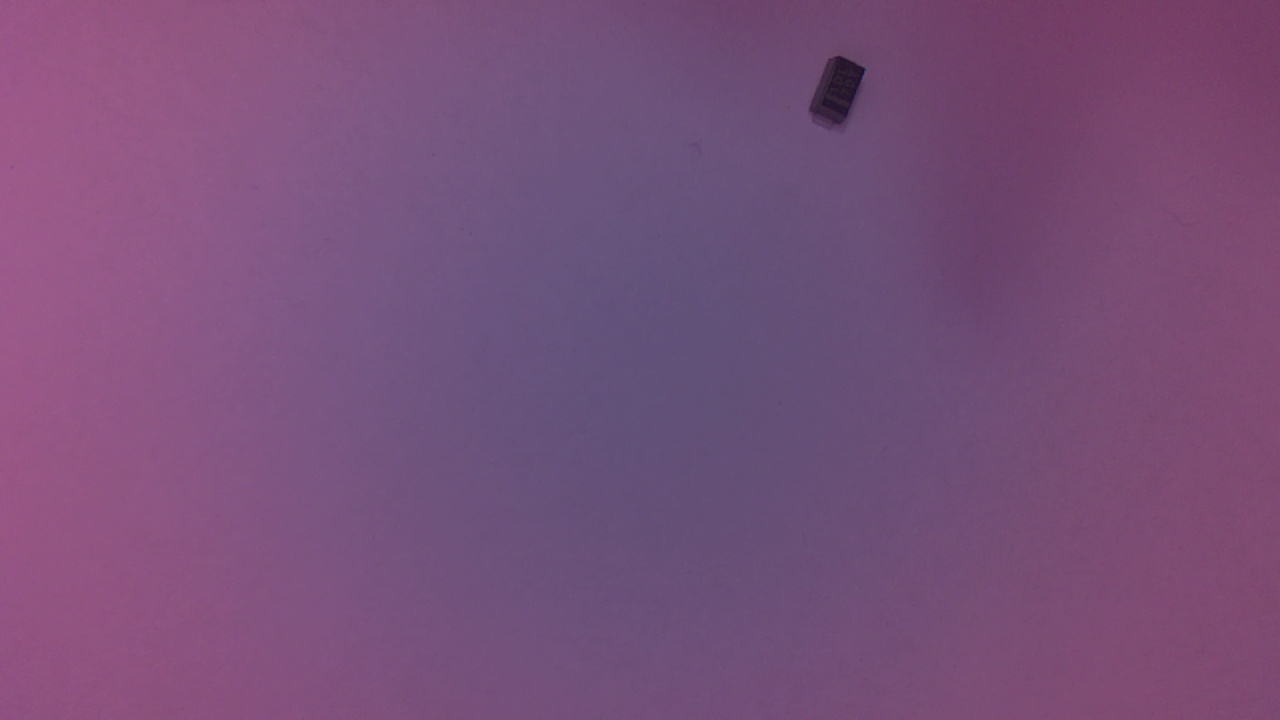Diode: (809, 56, 877, 141)
